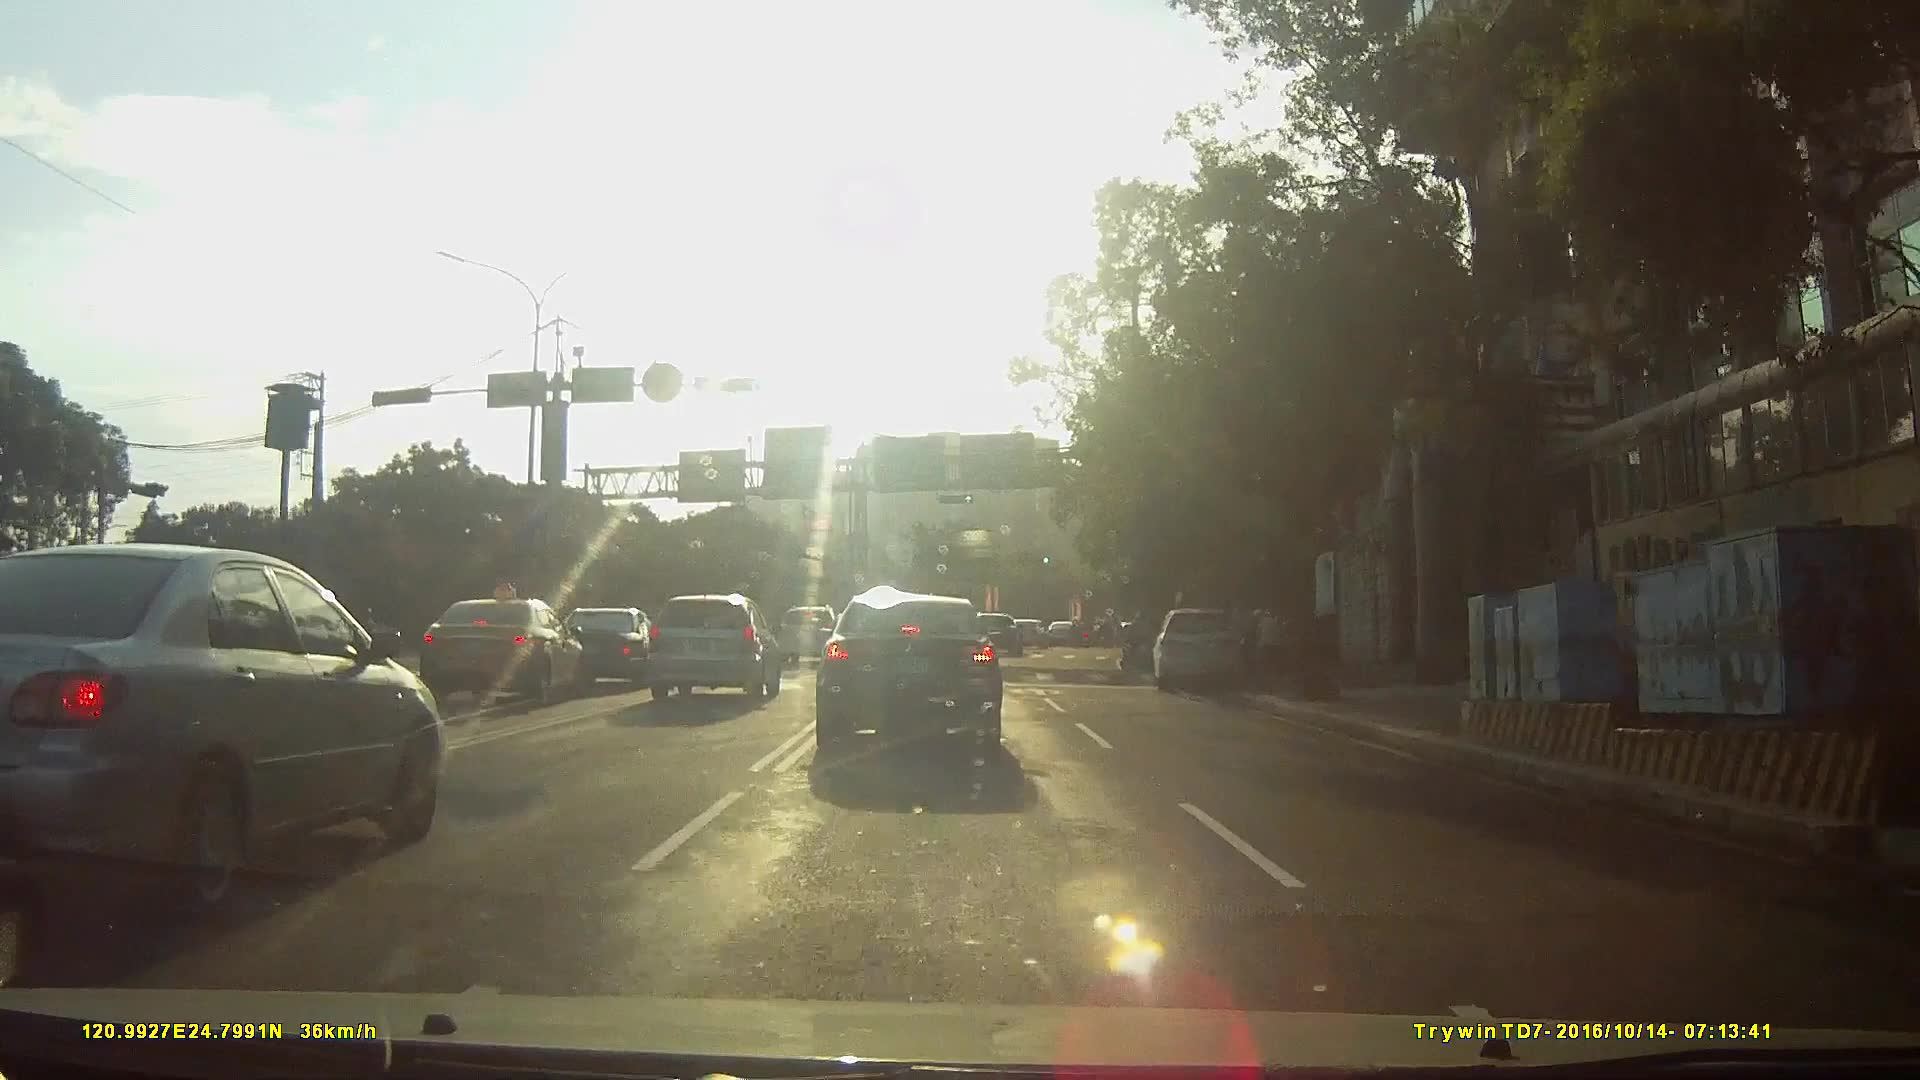pedestrian: (1252, 608, 1289, 676)
vehicle: (1, 540, 462, 912), (807, 598, 1020, 775), (392, 599, 571, 711), (642, 592, 781, 704), (535, 608, 654, 693), (1152, 603, 1263, 693), (779, 606, 846, 670), (969, 614, 1027, 660), (1013, 621, 1052, 653), (1046, 622, 1087, 650)
